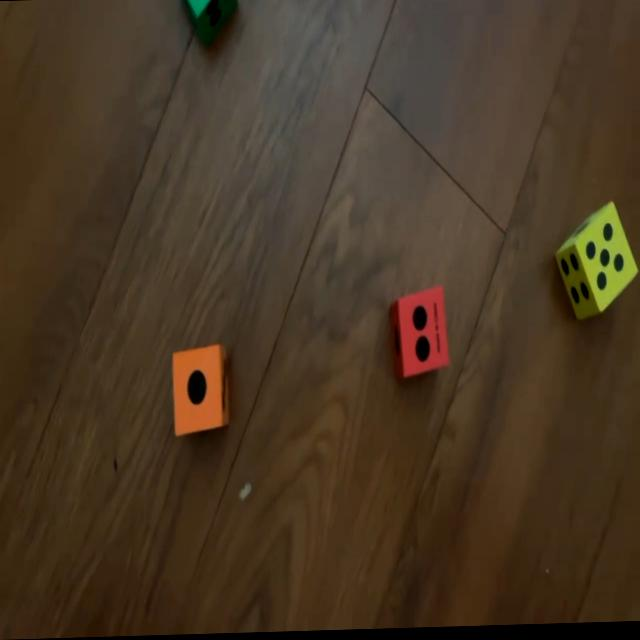red_block: (389, 289, 449, 380)
